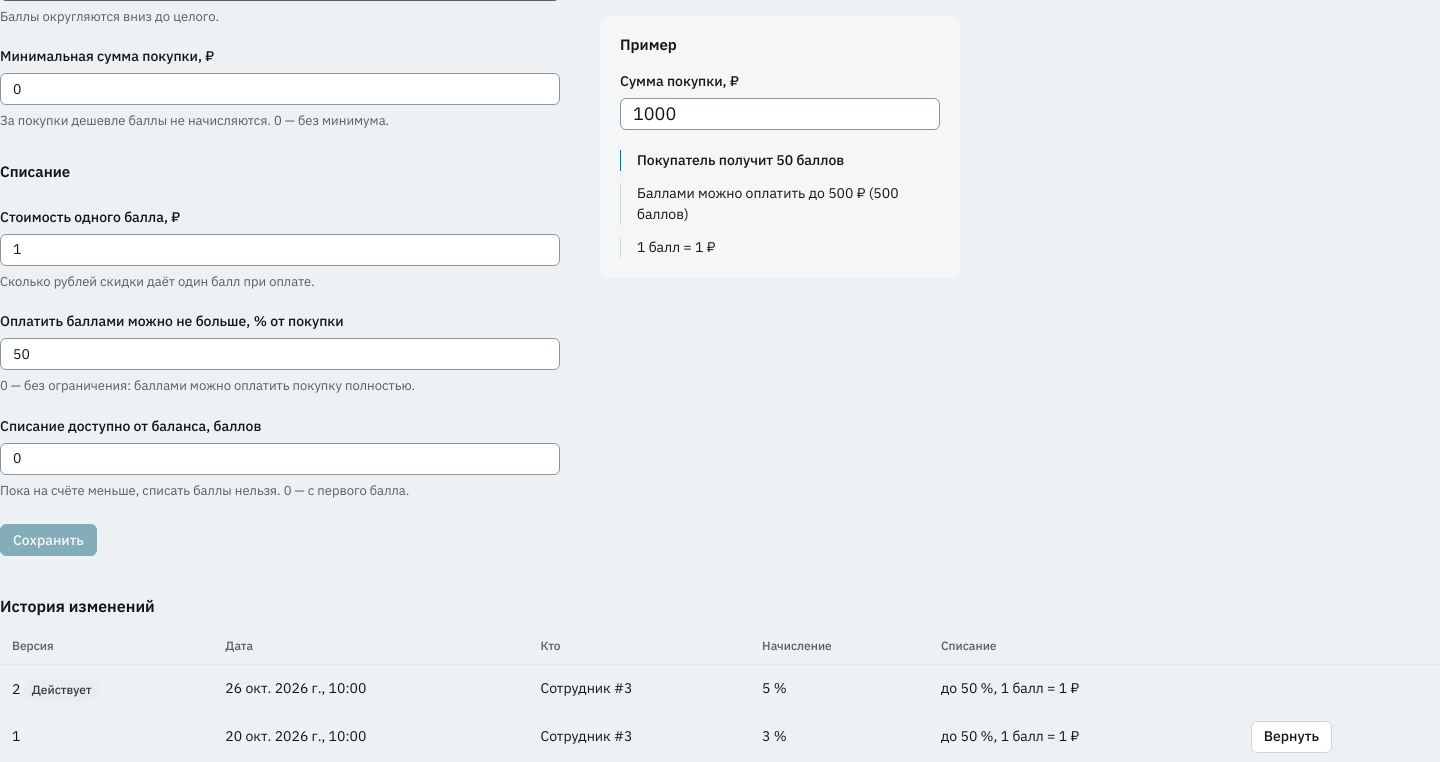
Scenario: LoyaltyConfigPage › restores an older version after confirmation, guarded by the current version
(page scrolled)
Expected: the text "Действует" is shown, [24, 679, 100, 701]
What coordinates should you click on to do the following:
click the button with aria-label "Вернуть версию 1"
I would click on:
 (1291, 736)
Its box is [1251, 720, 1332, 752].
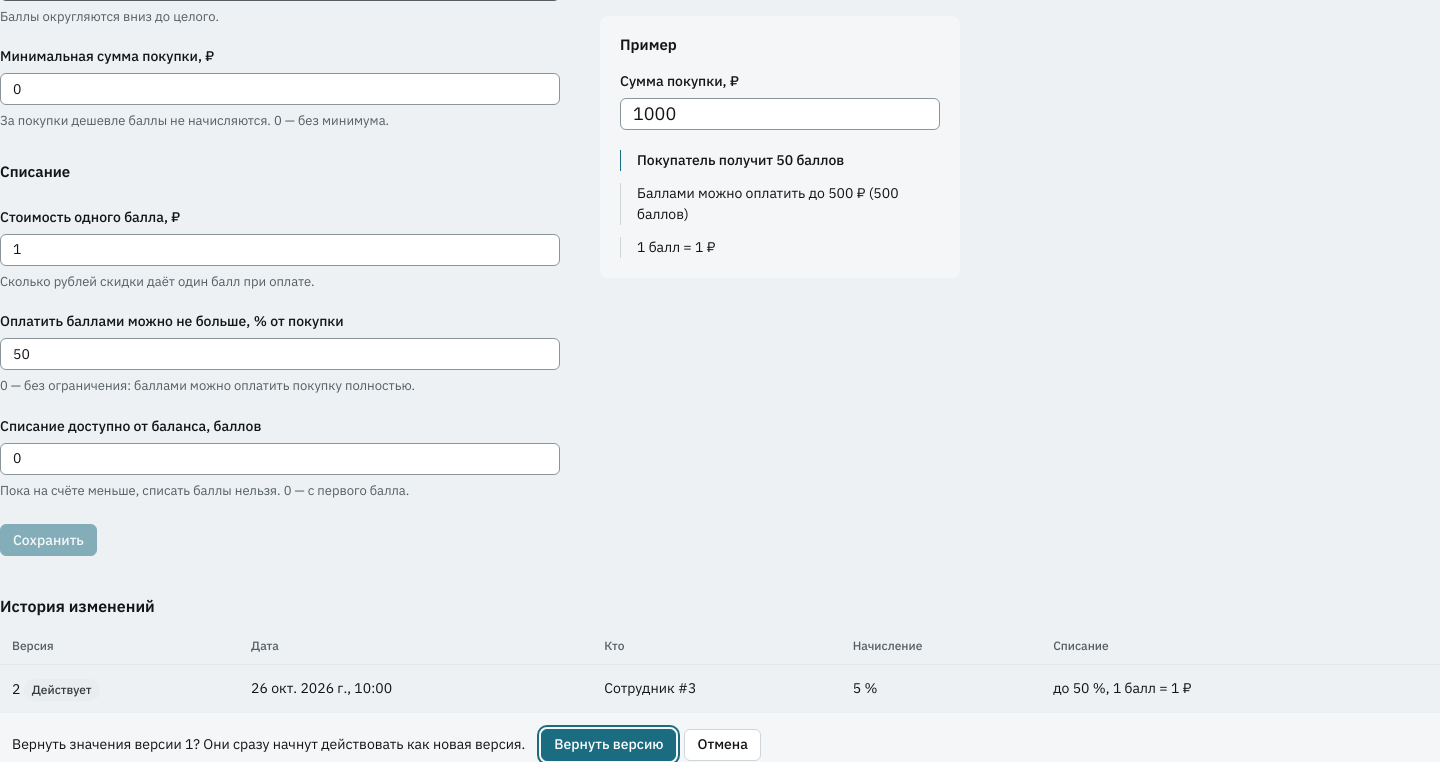
What coordinates should you click on to do the following:
click the button "Вернуть версию"
I would click on:
 (609, 744)
Its box is [541, 728, 676, 760].
(page scrolled)
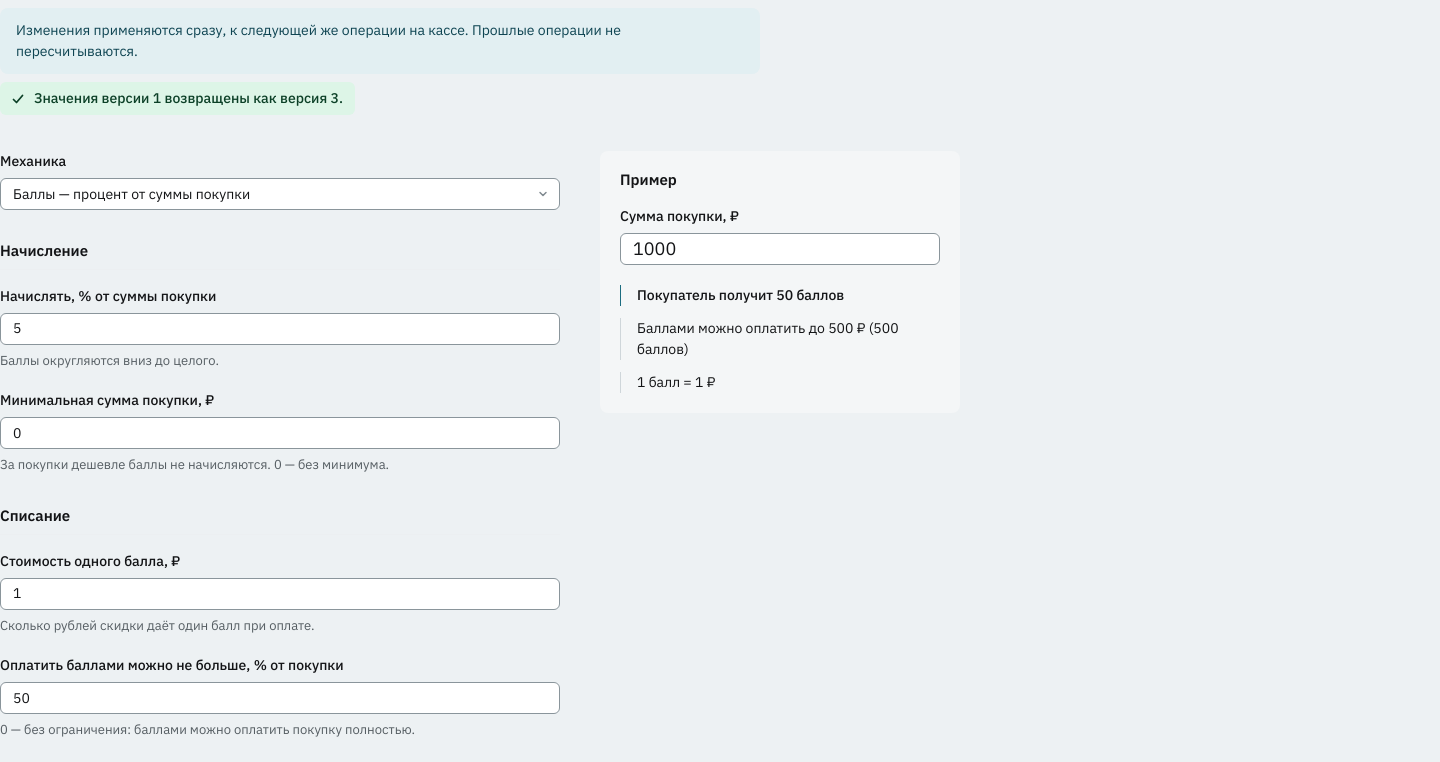
Result: the text "Значения версии 1 возвращены как версия 3." is shown at [0, 82, 355, 115]
